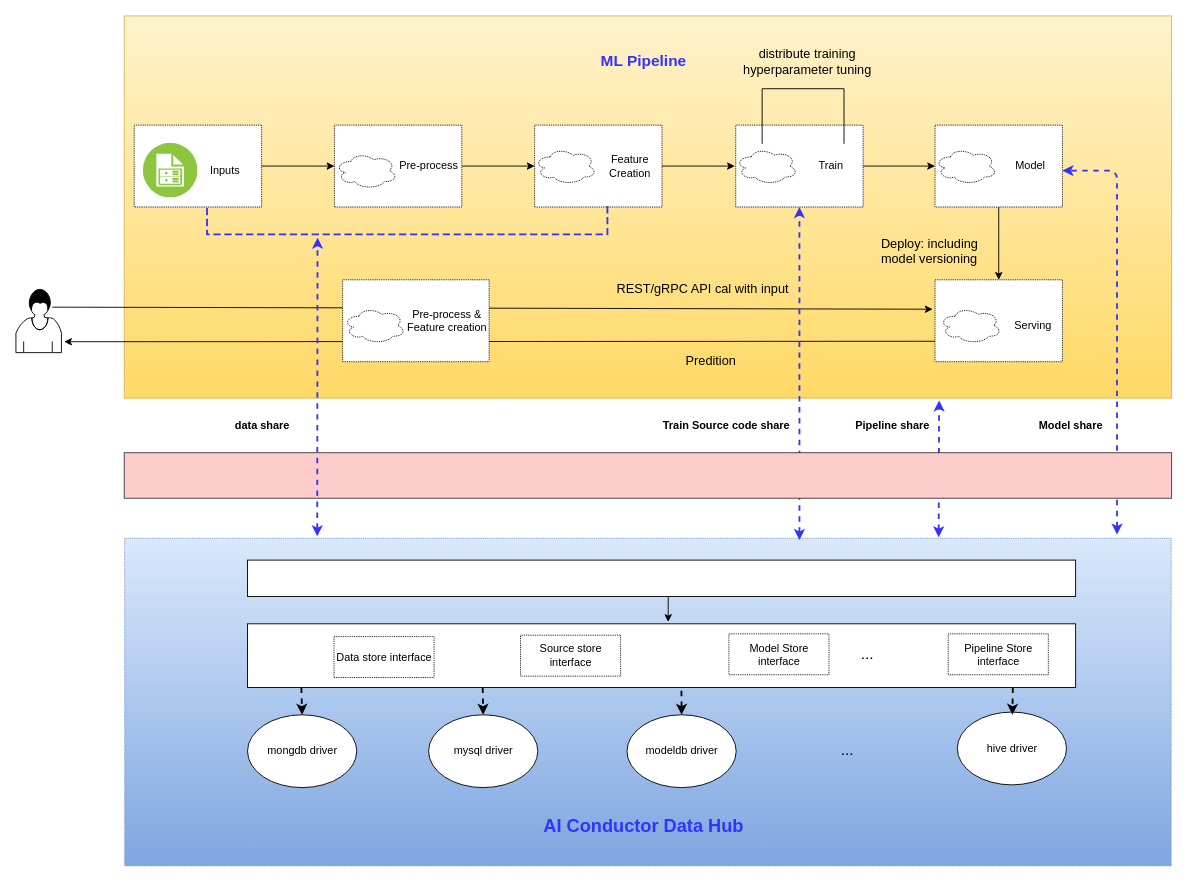
Image size: 1188x882. Some labels were removed from this diagram. Here are the shapes that lost their labels. From the top down, the box of each, then its label:
(123, 452, 1172, 498): AI Condutor auth
(247, 559, 1076, 597): AI Conductor Data Hub REST/gRPC API
